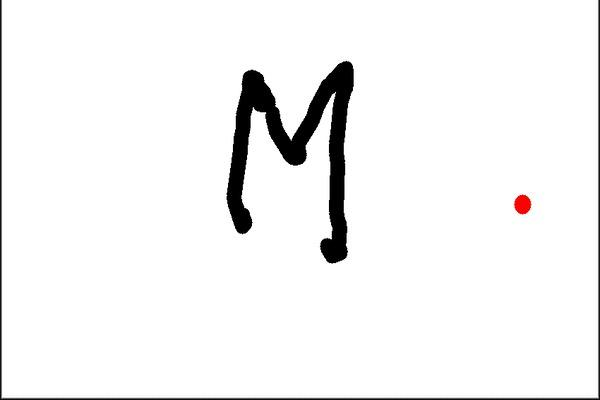M: (224, 59, 356, 269)
